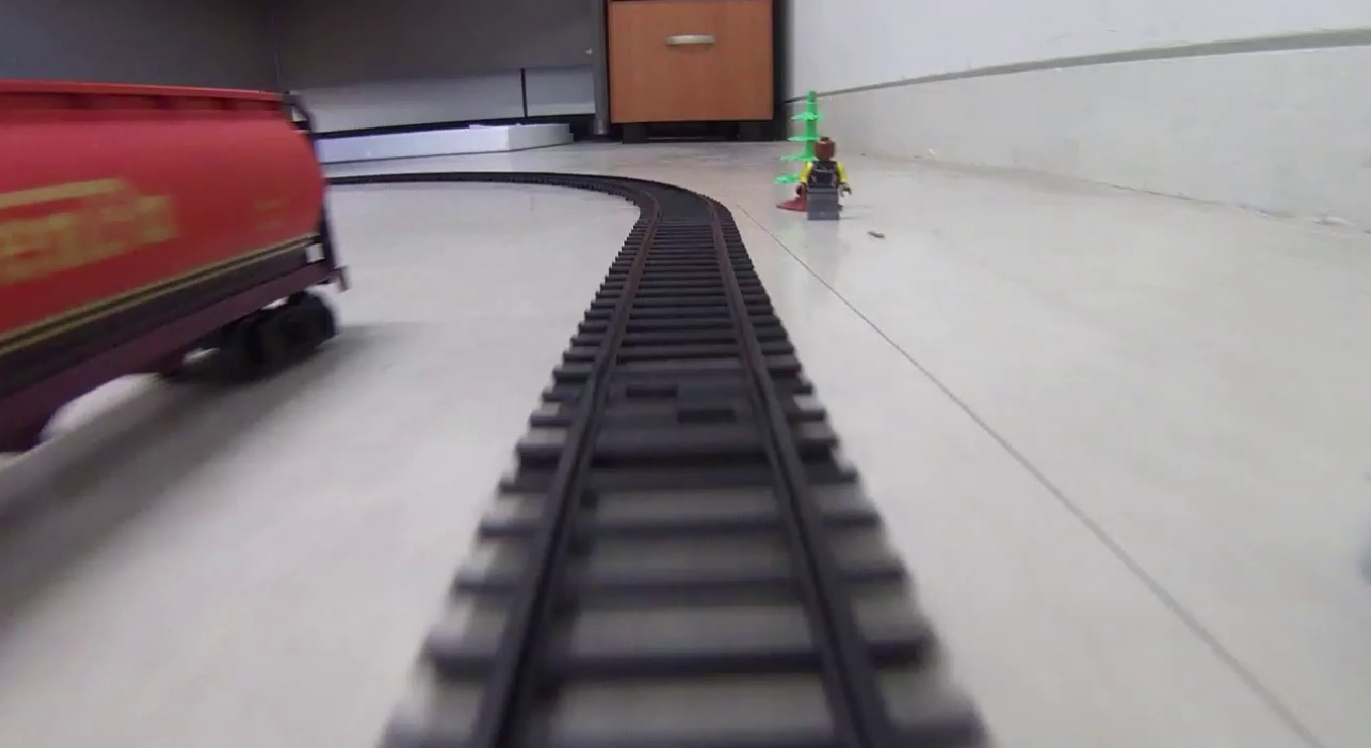people: (796, 137, 851, 222)
